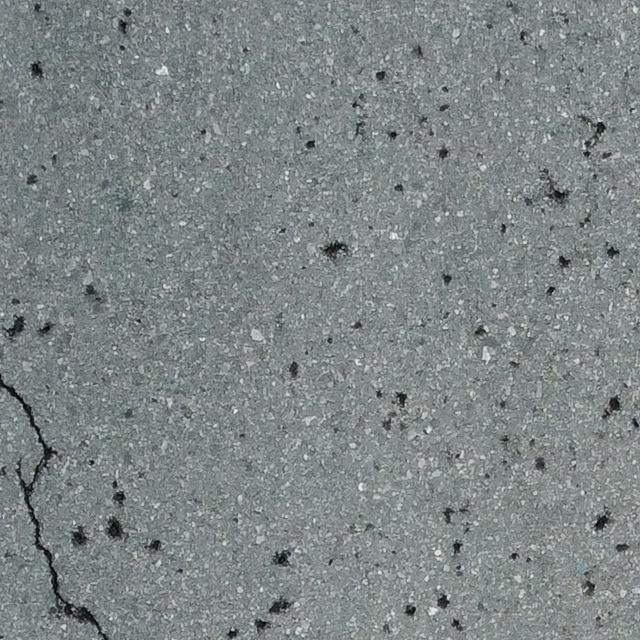LongitudinalCrack: (2, 381, 104, 640)
